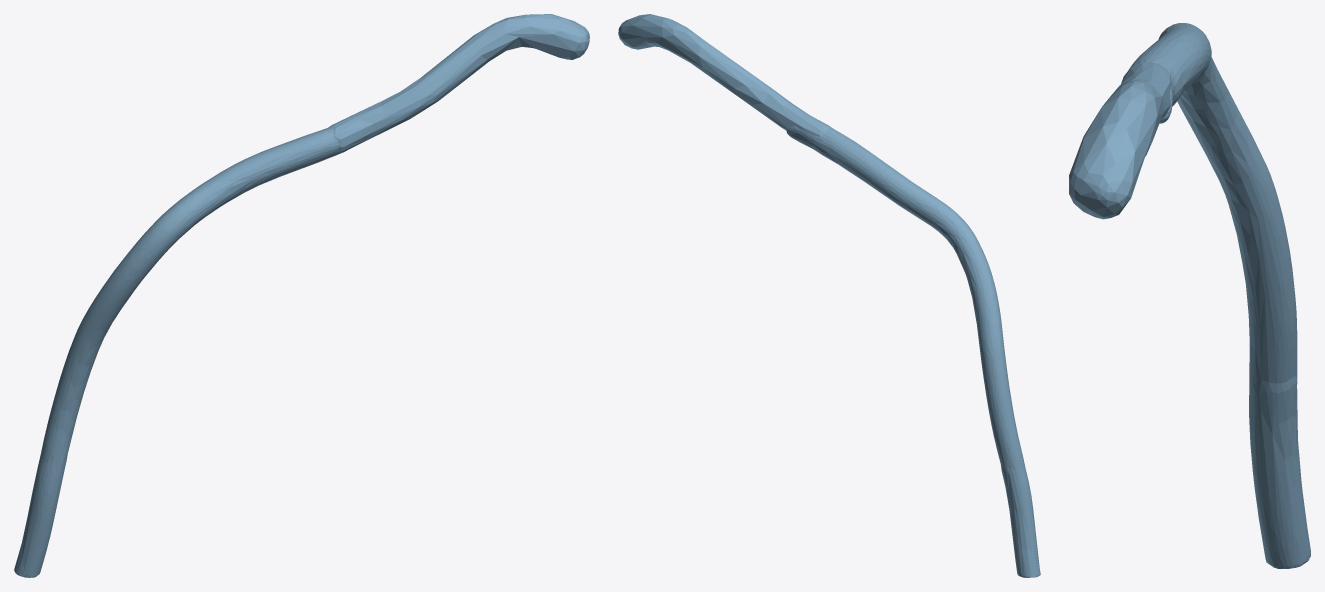
Rendered from shoulder-girdle-vein.glb.
3 renders of one model, left to right at view 1: azimuth 30°, elevation 25°; view 2: azimuth 150°, elevation 25°; view 3: azimuth 270°, elevation 25°, orthographic. The views are drawn at different scales.
Parts seen in each view (by area): view 1: axillary-vein__BP5956, subclavian-vein__BP10356; view 2: axillary-vein__BP5956, subclavian-vein__BP10356; view 3: axillary-vein__BP5956, subclavian-vein__BP10356.
Part boxes in pixels (bbox=[...]): axillary-vein__BP5956: bbox=[14, 128, 361, 577]; subclavian-vein__BP10356: bbox=[327, 14, 589, 153]; axillary-vein__BP5956: bbox=[786, 126, 1040, 577]; subclavian-vein__BP10356: bbox=[618, 14, 833, 136]; axillary-vein__BP5956: bbox=[1129, 23, 1310, 568]; subclavian-vein__BP10356: bbox=[1069, 62, 1171, 219].
Size of the model in its own units: 1.35 by 1.19 by 0.304.
